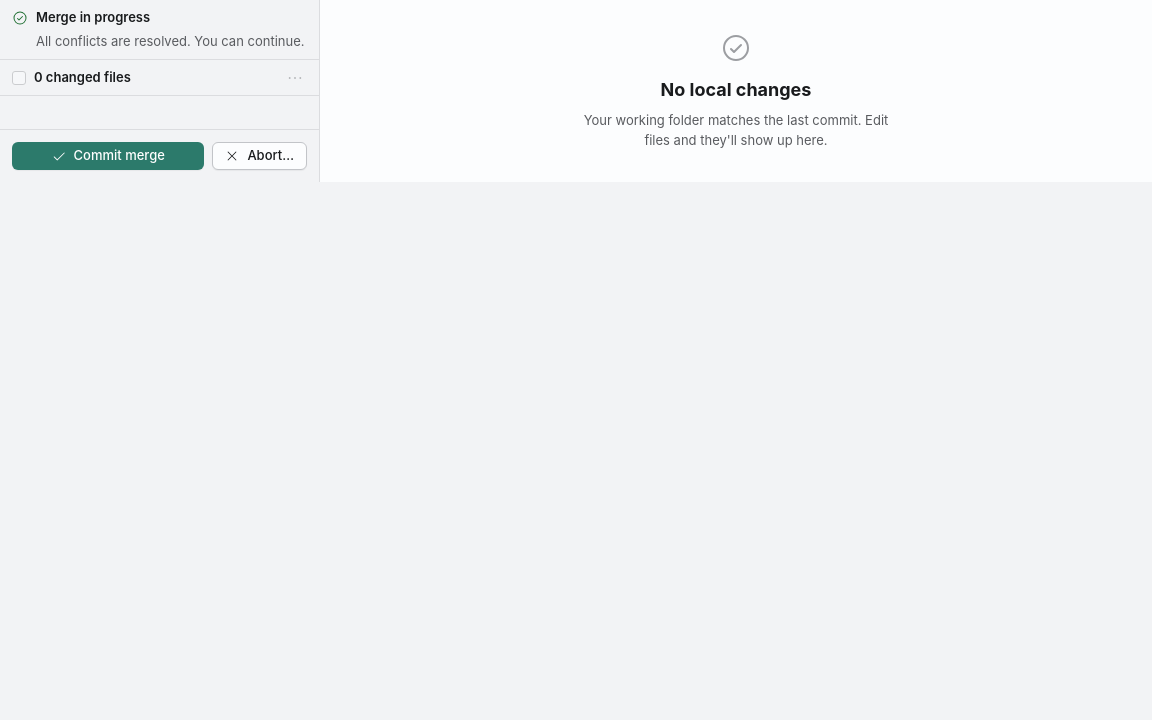
Test: conflict resolution › continues once everything is resolved
Expected: the text "All conflicts are resolved. You can continue." is shown, top-left (12, 32), bottom-right (307, 51)
Click the button "Commit merge" at (108, 156), box top-left (12, 142), bottom-right (204, 170)
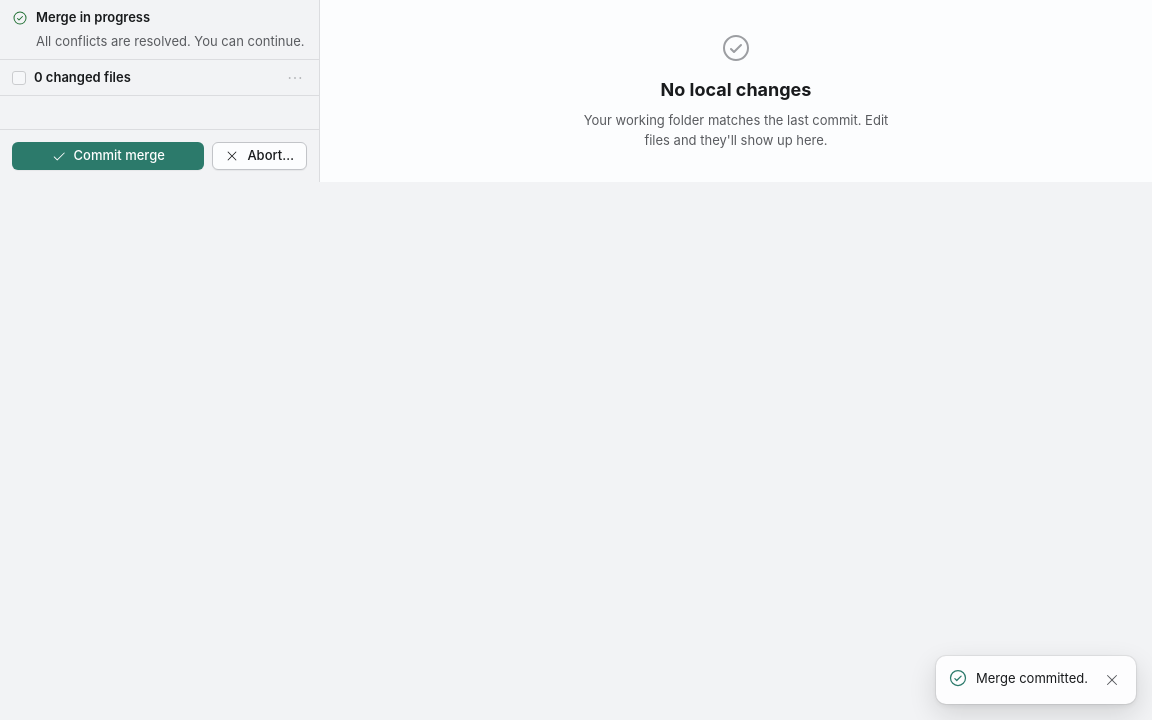
Expected: the text "Merge committed." is shown, top-left (976, 669), bottom-right (1088, 688)
